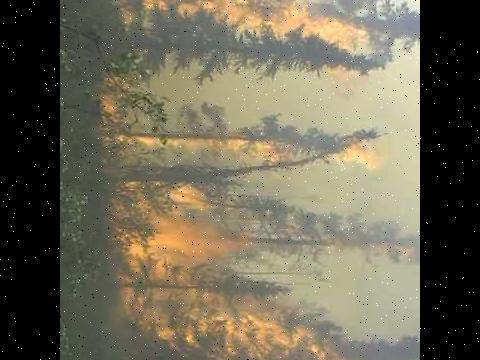fire: (103, 0, 420, 360)
